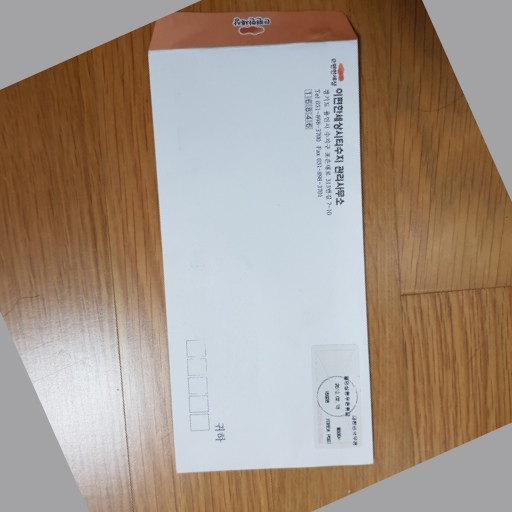Paper_2: (144, 9, 382, 479)
